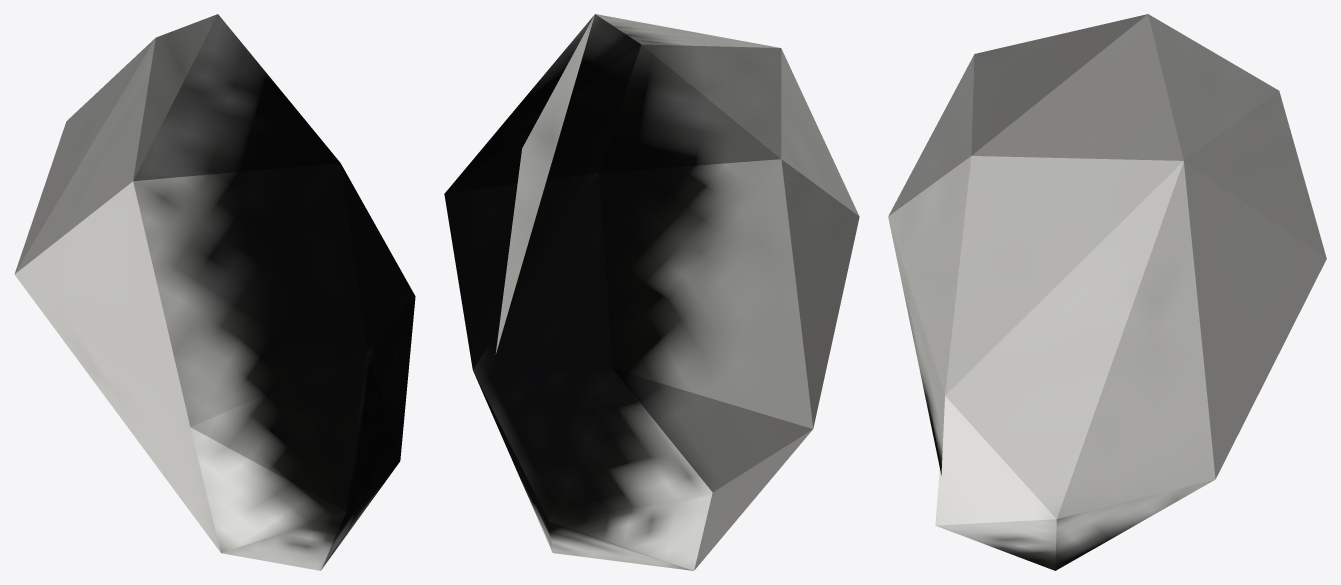
3 renders of one model, left to right at view 1: azimuth 30°, elevation 25°; view 2: azimuth 150°, elevation 25°; view 3: azimuth 270°, elevation 25°, orthographic. The views are drawn at different scales.
Size of the model in its own units: 0.1767 by 0.2675 by 0.2038.
1 material, 1 textured.
